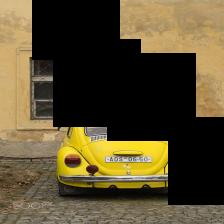yellow: (57, 105, 200, 196)
